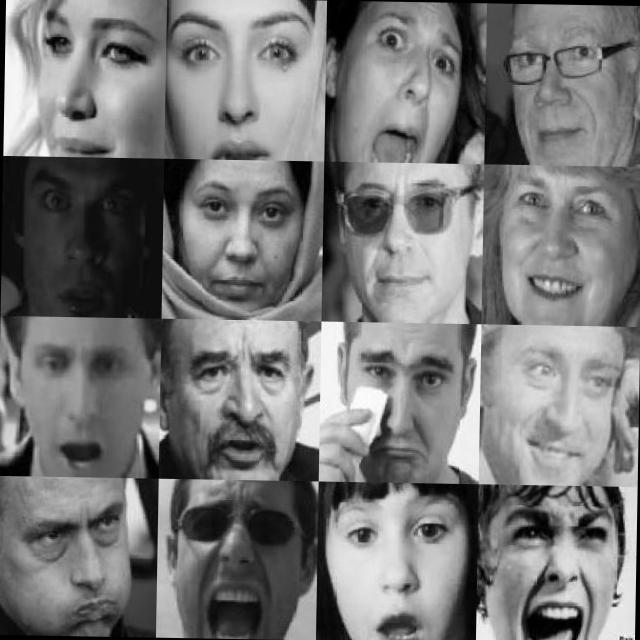angry: (171, 490, 297, 640), (180, 333, 296, 474), (21, 490, 134, 630)
fear: (164, 5, 312, 157), (488, 495, 620, 640), (329, 495, 460, 640), (22, 163, 145, 314), (348, 3, 466, 158), (22, 329, 138, 471)
happy: (28, 0, 157, 157), (499, 168, 628, 319), (503, 336, 624, 480)
neutral: (334, 170, 464, 312), (497, 11, 619, 162), (184, 165, 302, 314)
sad: (350, 338, 460, 468)
